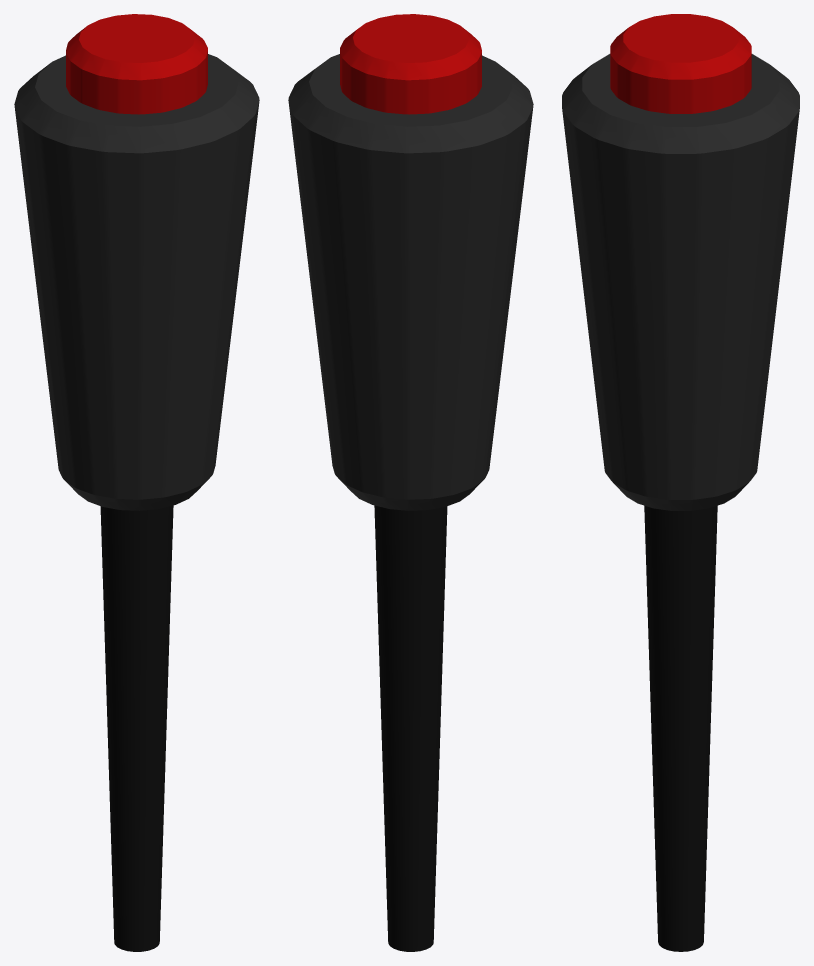
The model's file is joystickoldschool.fbx.
3 renders of one model, left to right at view 1: azimuth 30°, elevation 25°; view 2: azimuth 150°, elevation 25°; view 3: azimuth 270°, elevation 25°, orthographic.
Visible parts, largest first — view 1: pCylinder1, pCylinder2, pCylinder3; view 2: pCylinder1, pCylinder2, pCylinder3; view 3: pCylinder1, pCylinder2, pCylinder3.
Boxes of the visible parts, x1,y1,x2,y2 form: pCylinder1: (14, 54, 259, 510); pCylinder2: (100, 505, 173, 951); pCylinder3: (66, 14, 207, 114); pCylinder1: (288, 54, 533, 510); pCylinder2: (374, 505, 447, 951); pCylinder3: (340, 14, 481, 114); pCylinder1: (562, 54, 799, 510); pCylinder2: (644, 505, 717, 951); pCylinder3: (610, 14, 751, 113).
Size of the model in its own units: 0.4884 by 1.99 by 0.4739.
